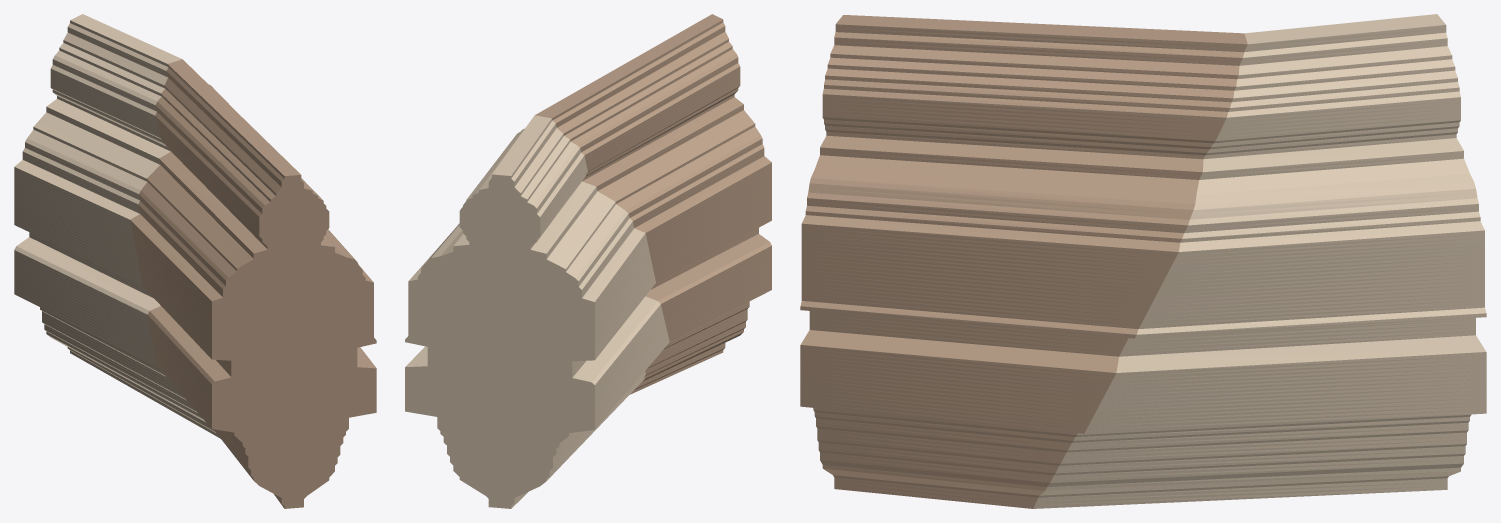
The model's file is R41_Curved_Tapered_Two_Stone_Experiment.glb.
3 renders of one model, left to right at view 1: azimuth 30°, elevation 25°; view 2: azimuth 150°, elevation 25°; view 3: azimuth 270°, elevation 25°, orthographic. The views are drawn at different scales.
Visible parts, largest first — view 1: R41_c26_t7_a22p5_A, R41_c26_t7_a22p5_B; view 2: R41_c26_t7_a22p5_B, R41_c26_t7_a22p5_A; view 3: R41_c26_t7_a22p5_A, R41_c26_t7_a22p5_B.
Part boxes in pixels (x1=…): R41_c26_t7_a22p5_A: x1=130, y1=59, x2=376, y2=508; R41_c26_t7_a22p5_B: x1=14, y1=14, x2=220, y2=438; R41_c26_t7_a22p5_B: x1=405, y1=115, x2=669, y2=508; R41_c26_t7_a22p5_A: x1=517, y1=14, x2=771, y2=394; R41_c26_t7_a22p5_A: x1=800, y1=15, x2=1247, y2=508; R41_c26_t7_a22p5_B: x1=1033, y1=14, x2=1486, y2=508.
Size of the model in its own units: 0.1515 by 0.2539 by 0.3409.
